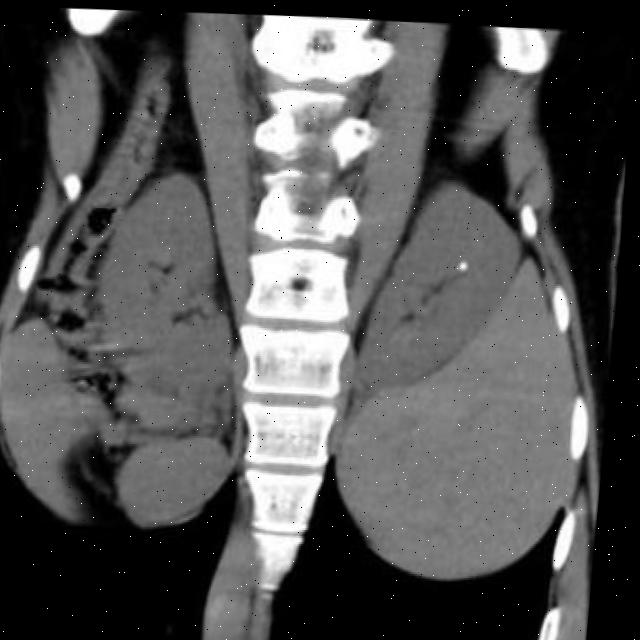Tas_Var: (463, 253, 474, 267)
